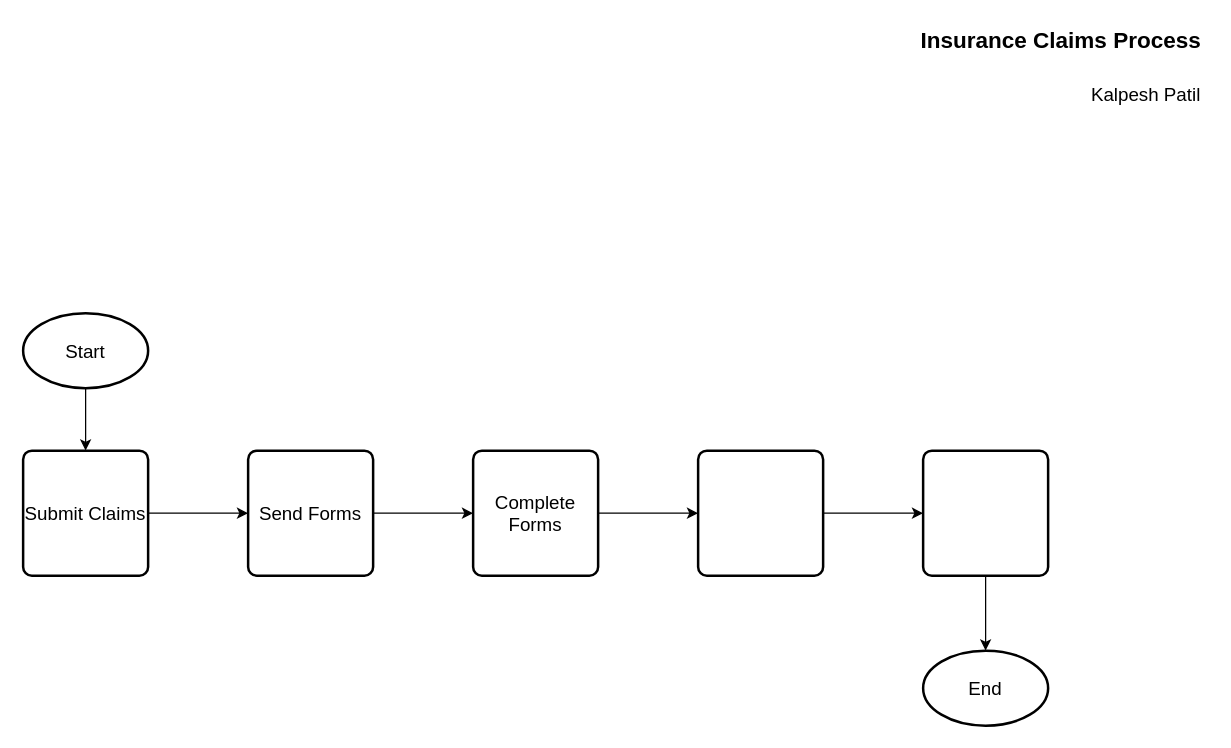
Some shapes in this 1231 by 748 pixel diagram are drawn without their labels. Each missing label, with the box of its shape:
Register Claim: (921, 449, 1049, 576)
Submit Forms: (696, 449, 824, 576)
